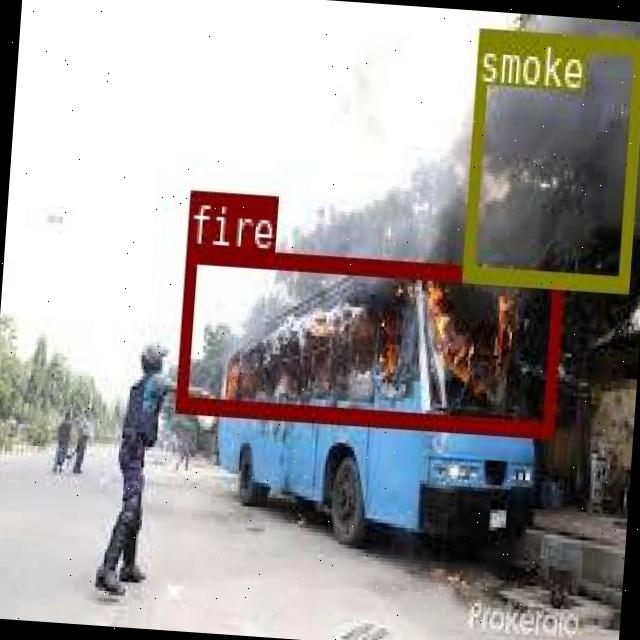fire: (173, 244, 560, 436)
smoke: (461, 26, 640, 289)
